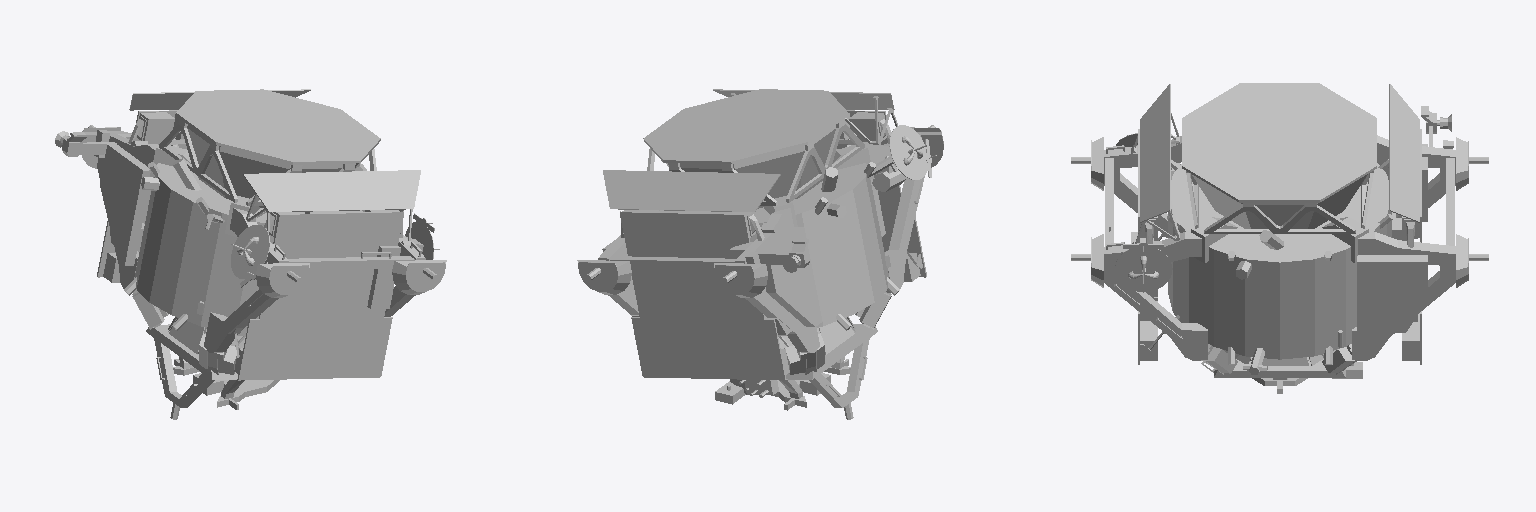
File: AMS2_000.obj
3 renders of one model, left to right at view 1: azimuth 30°, elevation 25°; view 2: azimuth 150°, elevation 25°; view 3: azimuth 270°, elevation 25°, orthographic.
Bounding box in the file's own units: 273 × 323 × 427.